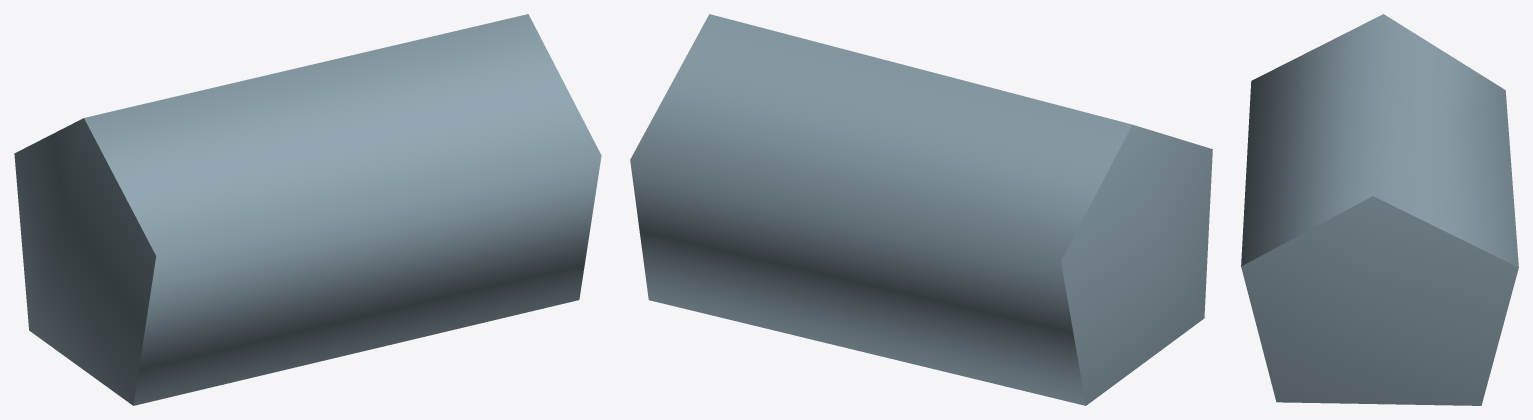
File: ironHammerHead.glb
3 views of the same model, side by side, from view 1: azimuth 30°, elevation 25°; view 2: azimuth 150°, elevation 25°; view 3: azimuth 270°, elevation 25° (orthographic). The views are drawn at different scales.
Visible parts, largest first — view 1: Cube001; view 2: Cube001; view 3: Cube001.
Part boxes in pixels (<box>): Cube001: <box>14,14,601,405</box>; Cube001: <box>630,14,1212,405</box>; Cube001: <box>1241,14,1518,405</box>.
Bounding box in the file's own units: 0.1744 × 0.0856 × 0.1004.
